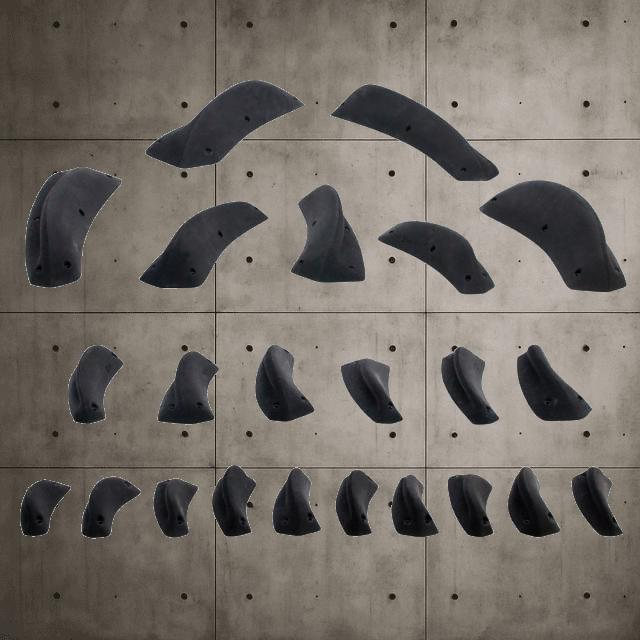Crimp: (329, 82, 499, 182), (478, 179, 626, 293), (144, 78, 304, 168), (23, 165, 121, 287), (139, 200, 269, 288), (378, 219, 494, 295), (290, 183, 366, 283), (515, 342, 591, 422), (254, 343, 314, 421), (440, 346, 500, 424), (157, 350, 219, 424), (68, 343, 124, 423), (339, 356, 403, 424), (81, 475, 141, 537), (571, 466, 623, 536), (507, 466, 559, 536), (272, 466, 321, 536), (212, 464, 256, 536), (390, 473, 438, 537), (446, 473, 494, 537), (334, 468, 378, 536), (20, 478, 70, 536), (152, 477, 198, 537)
